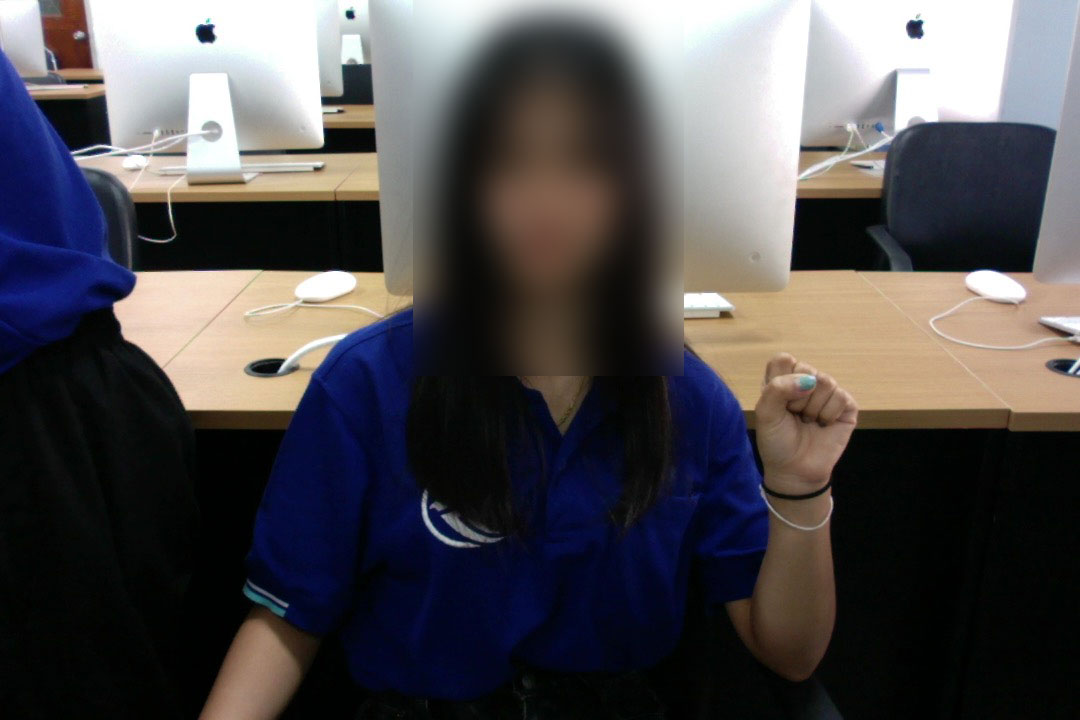sor: (751, 348, 862, 498)
